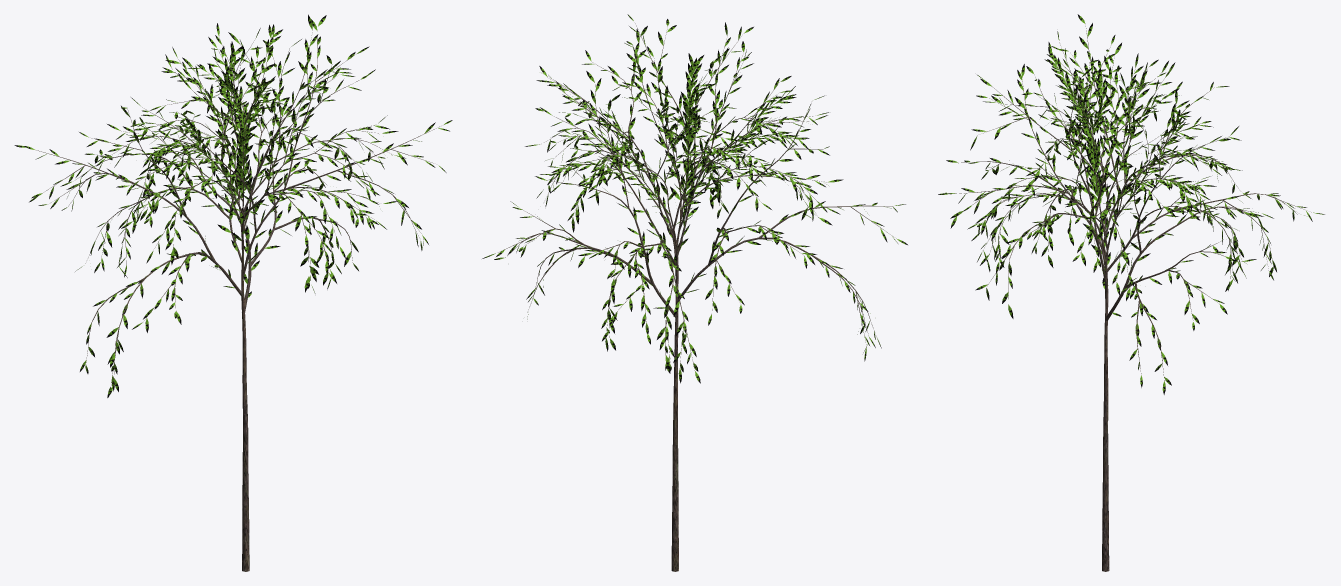
The model's file is arbre4.glb.
The picture shows the model from 3 angles, left to right: view 1: azimuth 30°, elevation 25°; view 2: azimuth 150°, elevation 25°; view 3: azimuth 270°, elevation 25°; orthographic projection. The views are drawn at different scales.
Size of the model in its own units: 9.49 by 13.79 by 9.19.
Materials: 2 (2 with a texture image).
